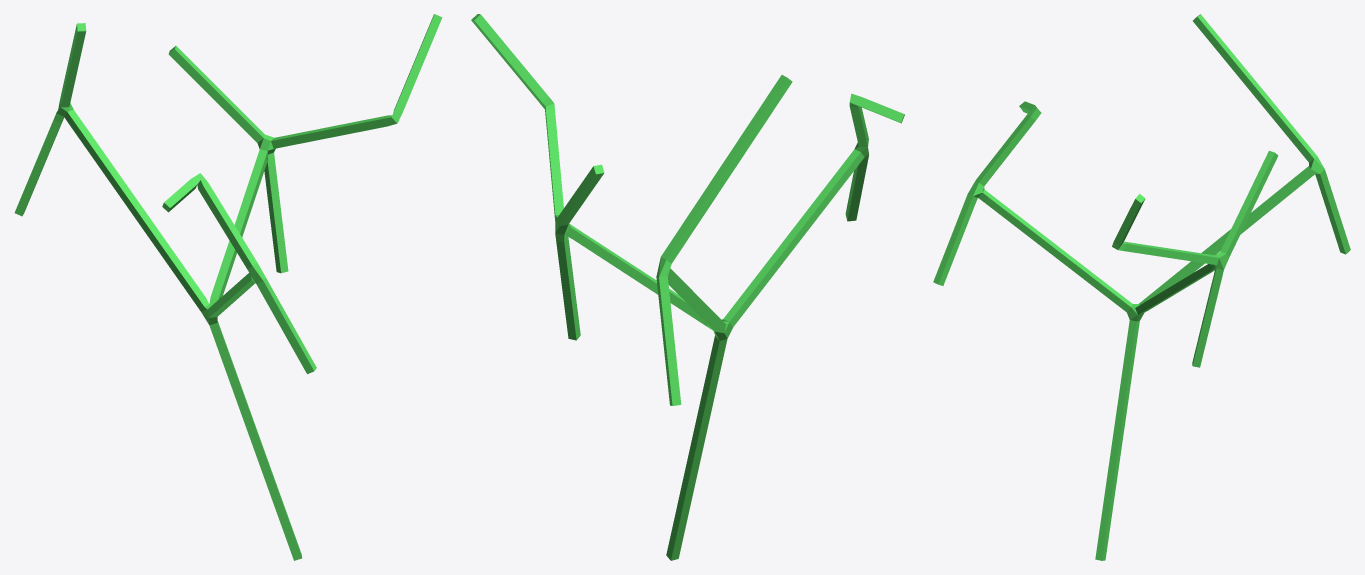
Rendered from fullyDeveloped.fbx.
3 renders of one model, left to right at view 1: azimuth 30°, elevation 25°; view 2: azimuth 150°, elevation 25°; view 3: azimuth 270°, elevation 25°, orthographic. The views are drawn at different scales.
Visible parts, largest first — view 1: fullyDeveloped; view 2: fullyDeveloped; view 3: fullyDeveloped.
Boxes of the visible parts, x1=… form: fullyDeveloped: x1=14, y1=14, x2=442, y2=560; fullyDeveloped: x1=471, y1=14, x2=904, y2=560; fullyDeveloped: x1=933, y1=14, x2=1350, y2=560.
Bounding box in the file's own units: 107 × 159 × 126.
